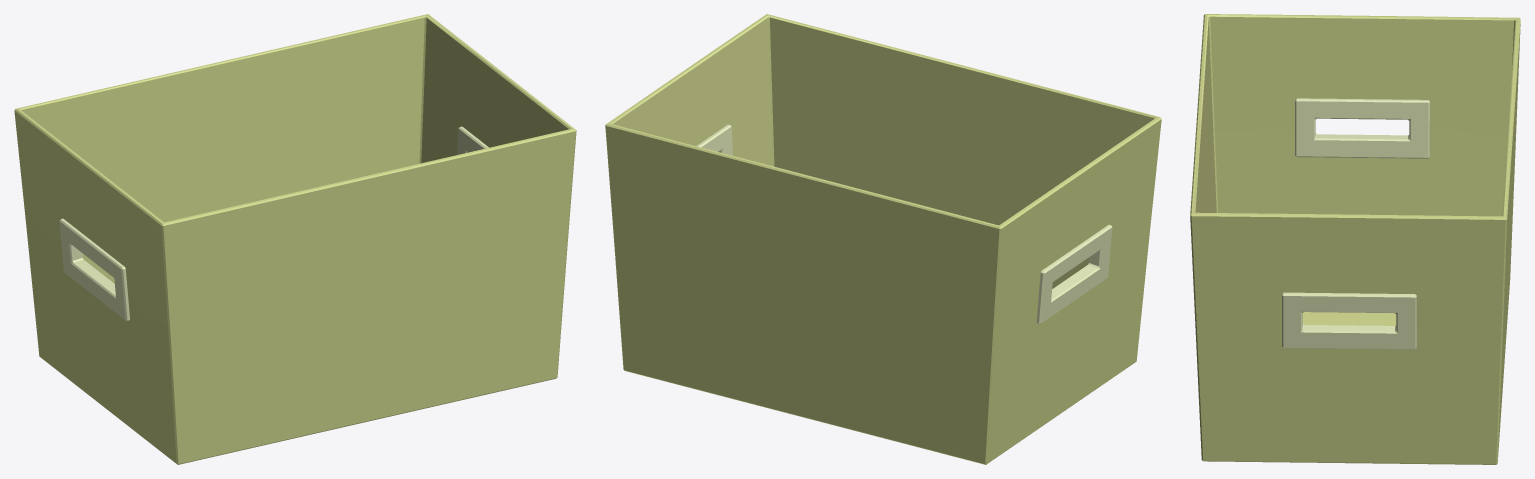
3 renders of one model, left to right at view 1: azimuth 30°, elevation 25°; view 2: azimuth 150°, elevation 25°; view 3: azimuth 270°, elevation 25°, orthographic. The views are drawn at different scales.
Visible parts, largest first — view 1: file_box_1; view 2: file_box_1; view 3: file_box_1.
Part boxes in pixels (x1,y1,x2,y2): file_box_1: (14, 14, 576, 464); file_box_1: (605, 14, 1161, 464); file_box_1: (1190, 14, 1520, 464).
Bounding box in the file's own units: 0.4733 × 0.2724 × 0.3212.
